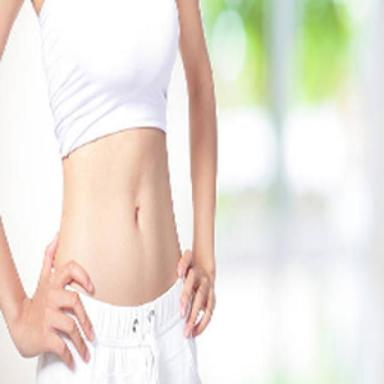normal skin: (55, 128, 180, 306), (0, 218, 94, 369), (177, 0, 217, 337)
